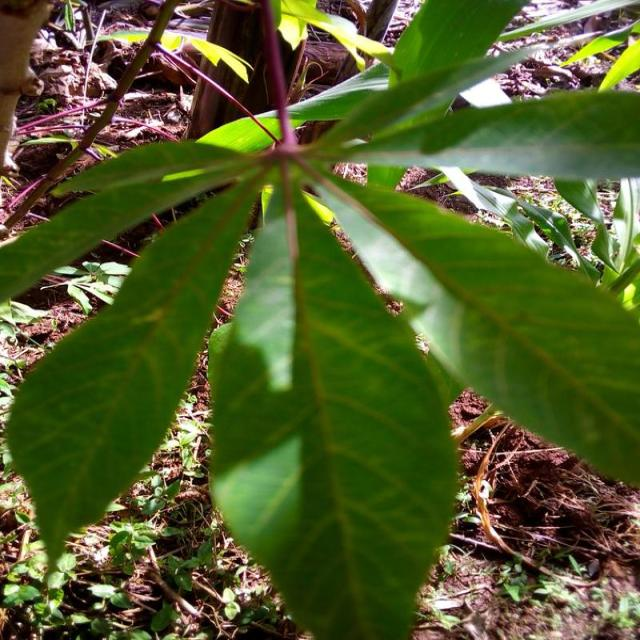cassava leaf: (2, 1, 640, 634), (206, 180, 461, 638)
